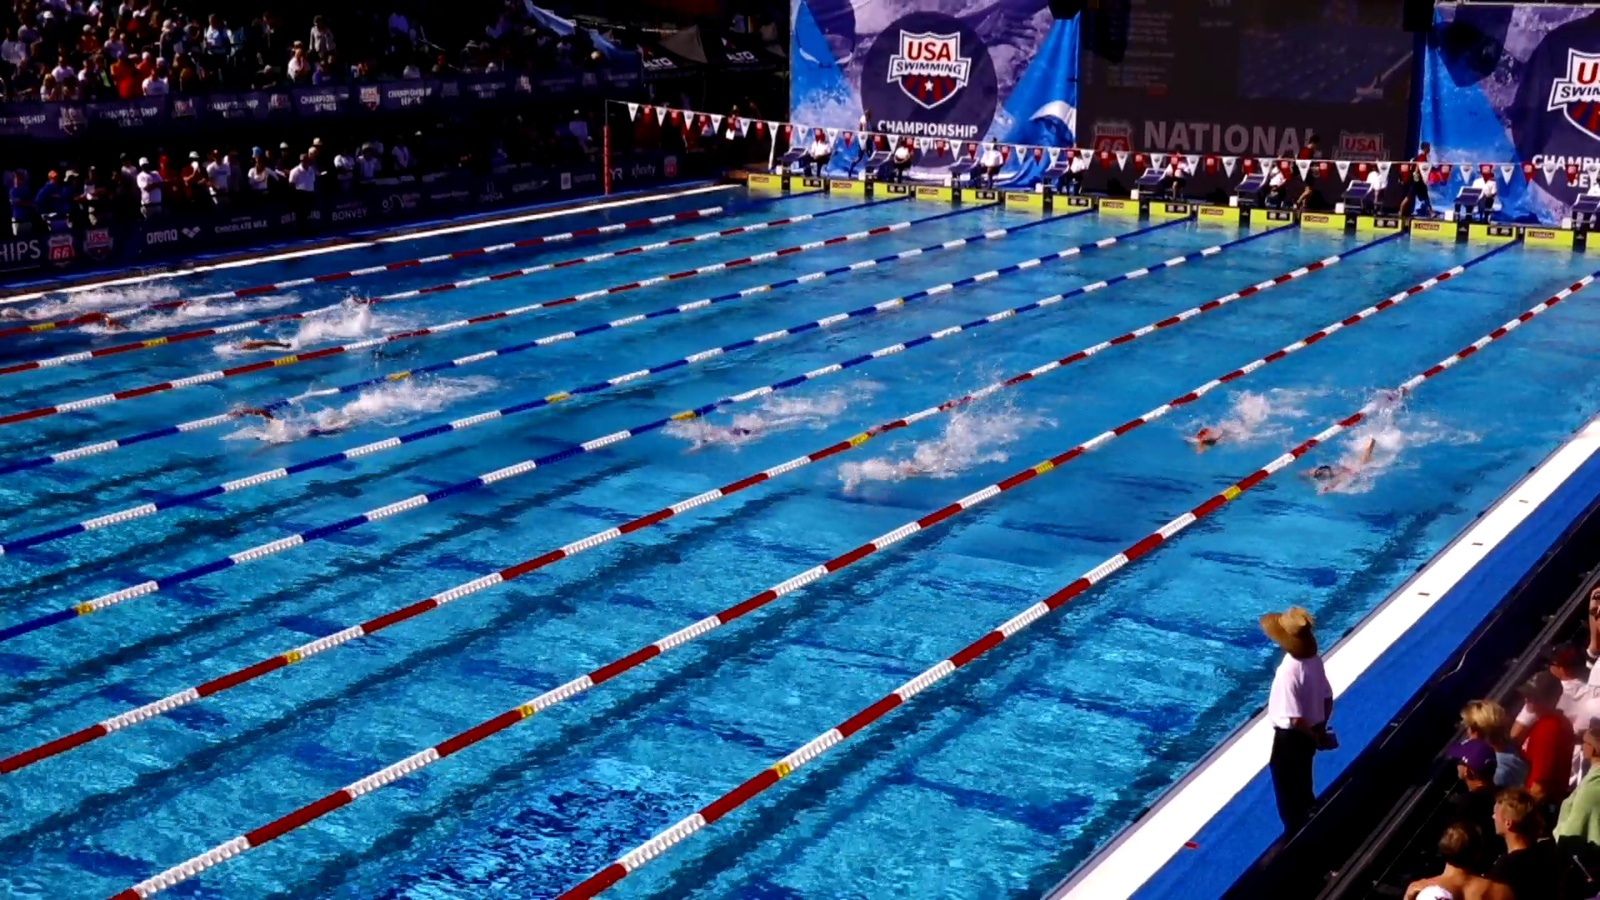swimmerw: (232, 405, 384, 452), (847, 441, 963, 496), (1310, 443, 1395, 503), (684, 409, 785, 457), (1179, 407, 1275, 457), (227, 330, 331, 356), (79, 315, 177, 341), (1, 300, 88, 319)
